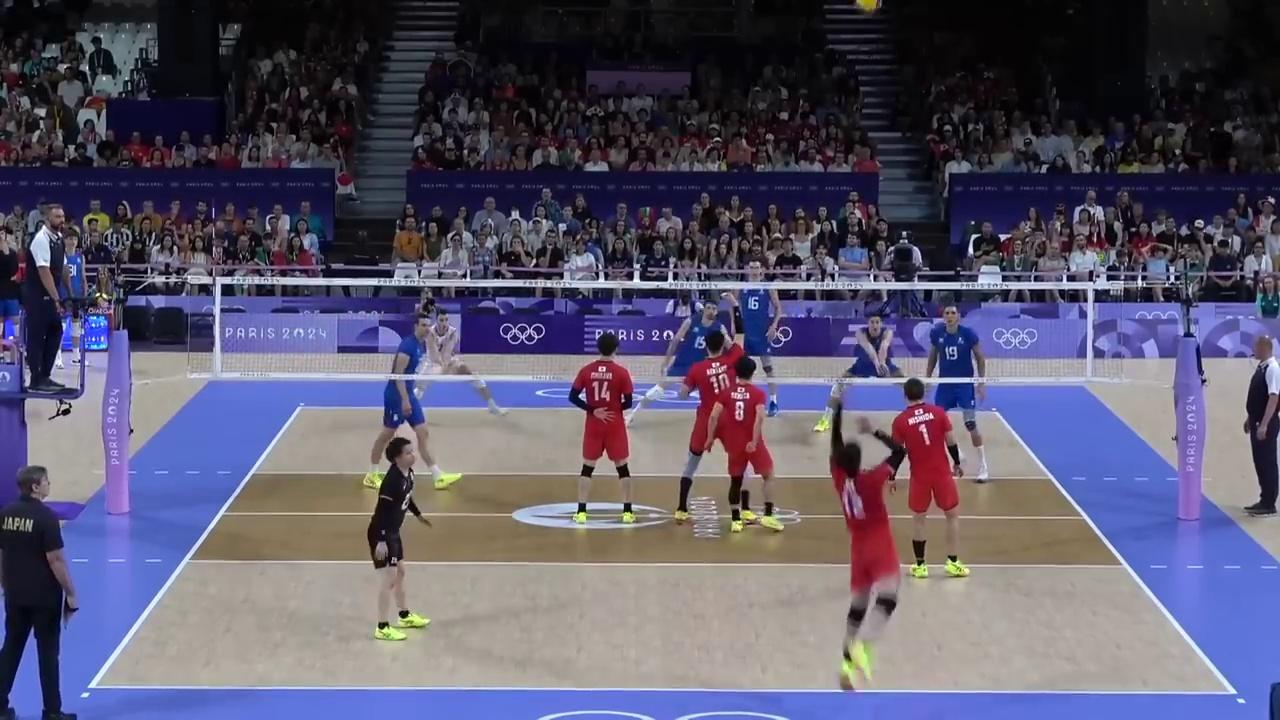ball: (855, 0, 883, 12)
